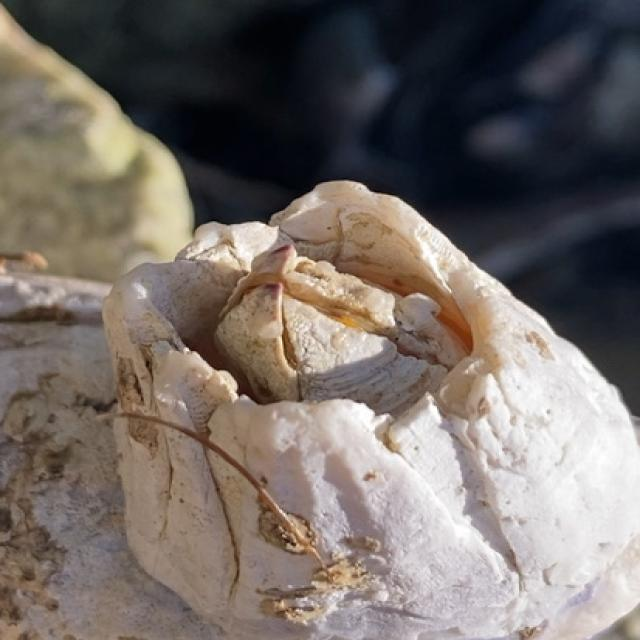barnacles: (96, 169, 640, 640)
